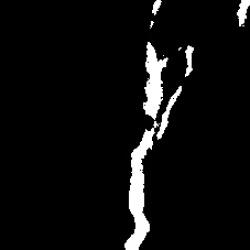crack: (124, 4, 195, 250), (236, 4, 246, 28)
